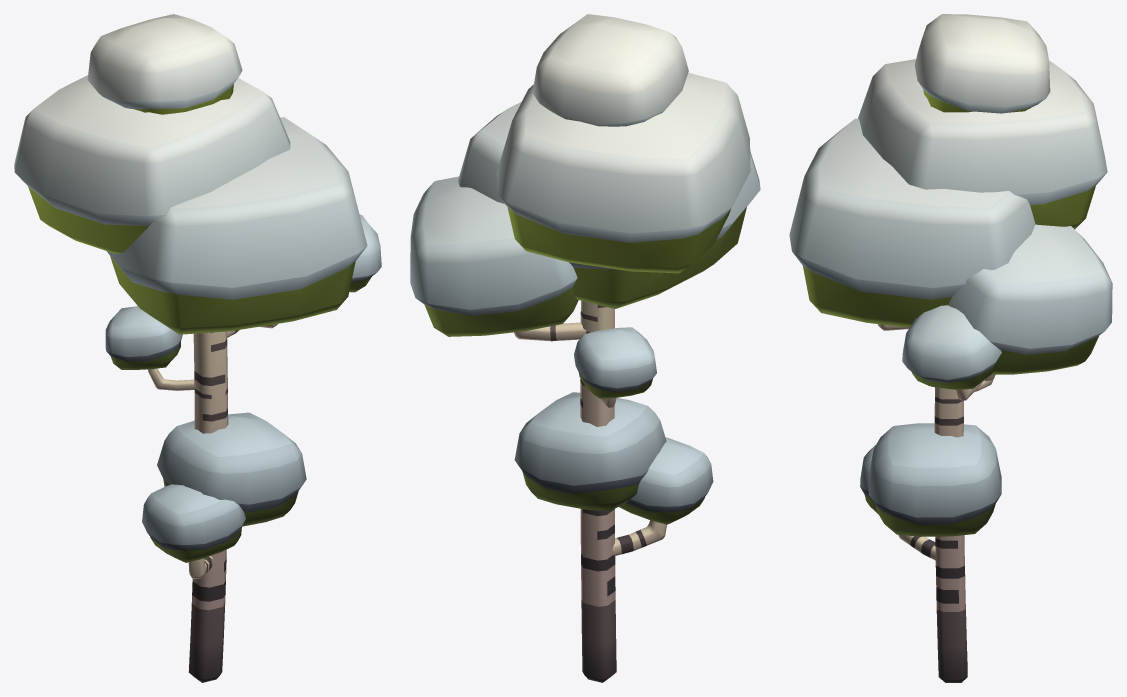
File: birch_tree_col1_02_snow.fbx
3 views of the same model, side by side, from view 1: azimuth 30°, elevation 25°; view 2: azimuth 150°, elevation 25°; view 3: azimuth 270°, elevation 25° (orthographic). The views are drawn at different scales.
Parts seen in each view (by area): view 1: birch_tree_col1_02_snow; view 2: birch_tree_col1_02_snow; view 3: birch_tree_col1_02_snow.
Part boxes in pixels (x1,y1,x2,y2): birch_tree_col1_02_snow: (14,14,381,682); birch_tree_col1_02_snow: (410,14,760,682); birch_tree_col1_02_snow: (789,14,1112,682).
Bounding box in the file's own units: 628 × 1218 × 556.
1 material, 1 textured.
